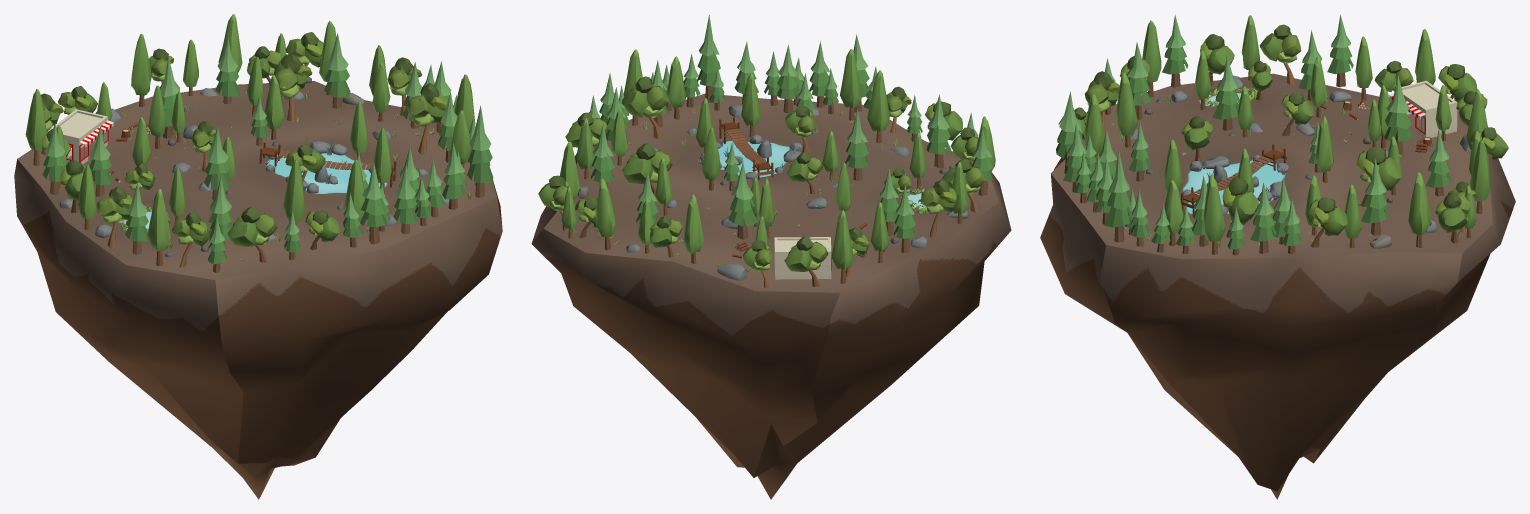
The model's file is environment.fbx.
The picture shows the model from 3 angles, left to right: view 1: azimuth 30°, elevation 25°; view 2: azimuth 150°, elevation 25°; view 3: azimuth 270°, elevation 25°; orthographic projection. The views are drawn at different scales.
Parts seen in each view (by area): view 1: ground0, tree3, tree2, tree1, house, rock1, bridge, rock2, bush1, rock3; view 2: ground0, tree2, tree3, tree1, rock1, house, bridge, rock2; view 3: ground0, tree3, tree2, tree1, house, rock1, rock3, bridge, rock2.
Part boxes in pixels (box(x1,y1,x2,y2)): ground0: box(14, 81, 502, 499); tree3: box(42, 33, 493, 272); tree2: box(25, 14, 475, 266); tree1: box(41, 32, 447, 267); house: box(47, 109, 113, 163); rock1: box(59, 88, 449, 243); bridge: box(259, 142, 396, 187); rock2: box(122, 76, 431, 257); bush1: box(93, 88, 472, 249); rock3: box(118, 93, 427, 250); ground0: box(531, 93, 1011, 499); tree2: box(559, 49, 995, 283); tree3: box(589, 15, 993, 252); tree1: box(538, 76, 985, 288); rock1: box(590, 105, 969, 280); house: box(774, 237, 831, 279); bridge: box(718, 117, 774, 179); rock2: box(679, 130, 954, 243); ground0: box(1040, 73, 1515, 499); tree3: box(1056, 14, 1451, 255); tree2: box(1084, 15, 1490, 254); tree1: box(1074, 24, 1508, 247); house: box(1389, 80, 1457, 137); rock1: box(1123, 75, 1476, 233); rock3: box(1149, 88, 1391, 248); bridge: box(1181, 144, 1286, 217); rock2: box(1144, 88, 1431, 225).
Size of the model in its own units: 85.68 by 82.95 by 84.81.
